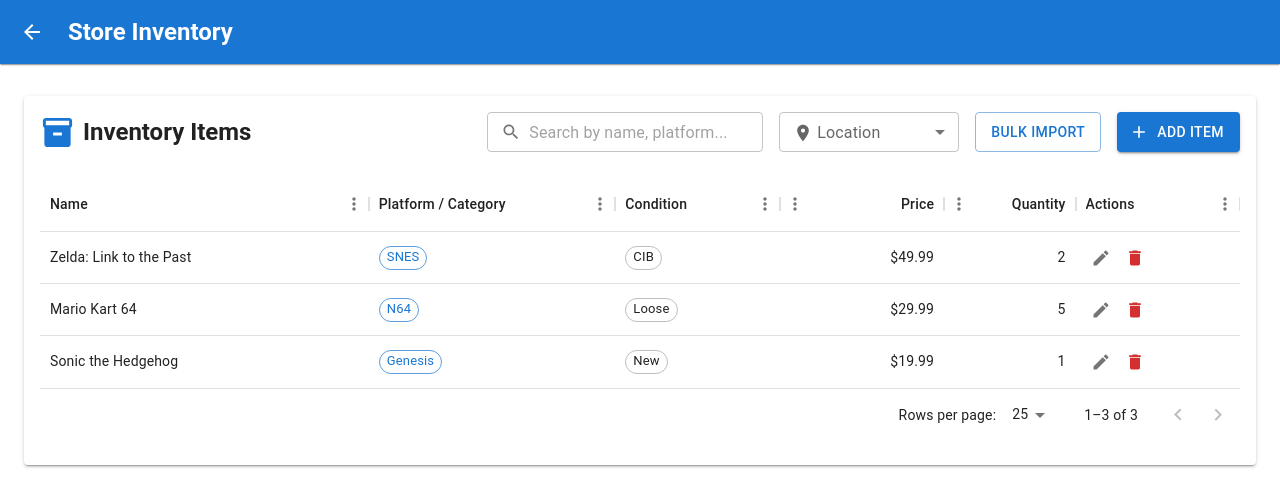
Test: InventoryPage › Search filtering › filters rows by name (case-insensitive)
The width and height of the screenshot is (1280, 485).
expect the text "Zelda: Link to the Past" is shown: met, box [50,248,191,268]
Type "zelda" into the field with placeholder "Search by name, platform..." at (646, 132), box [529,112,763,152]
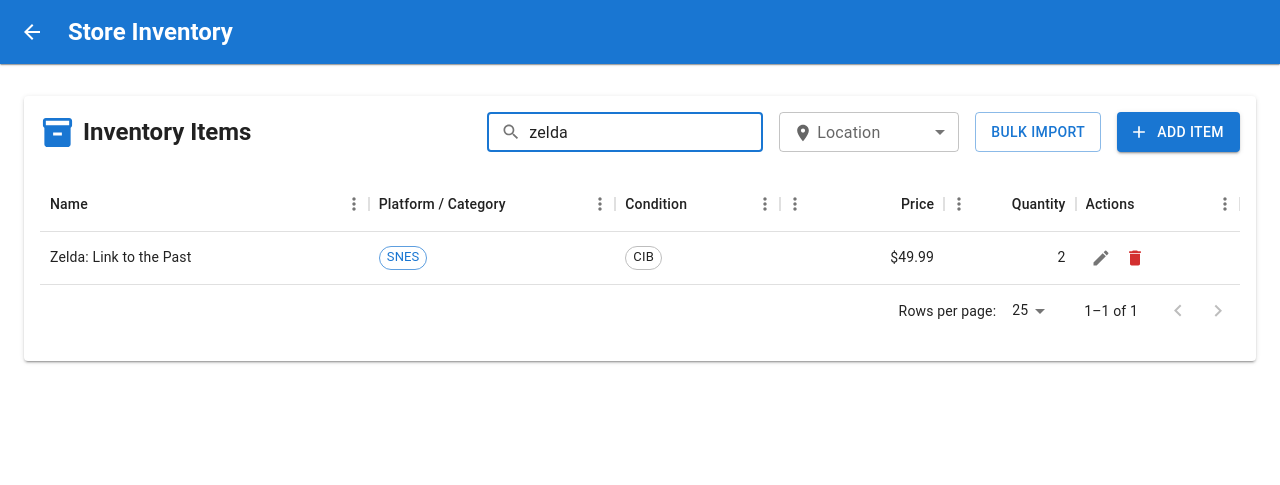
expect the text "Zelda: Link to the Past" is shown: met, box [50,248,191,268]
expect the text "Mario Kart 64" is gone: met
expect the text "Sonic the Hedgehog" is gone: met
